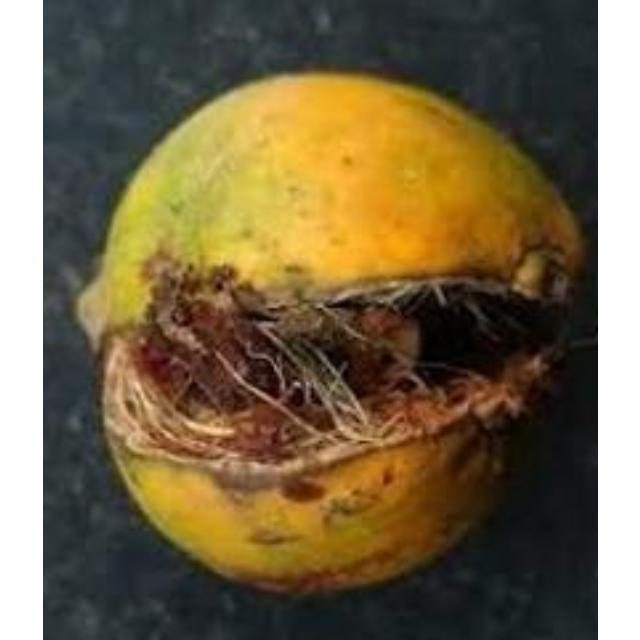damaged: (77, 74, 581, 590)
